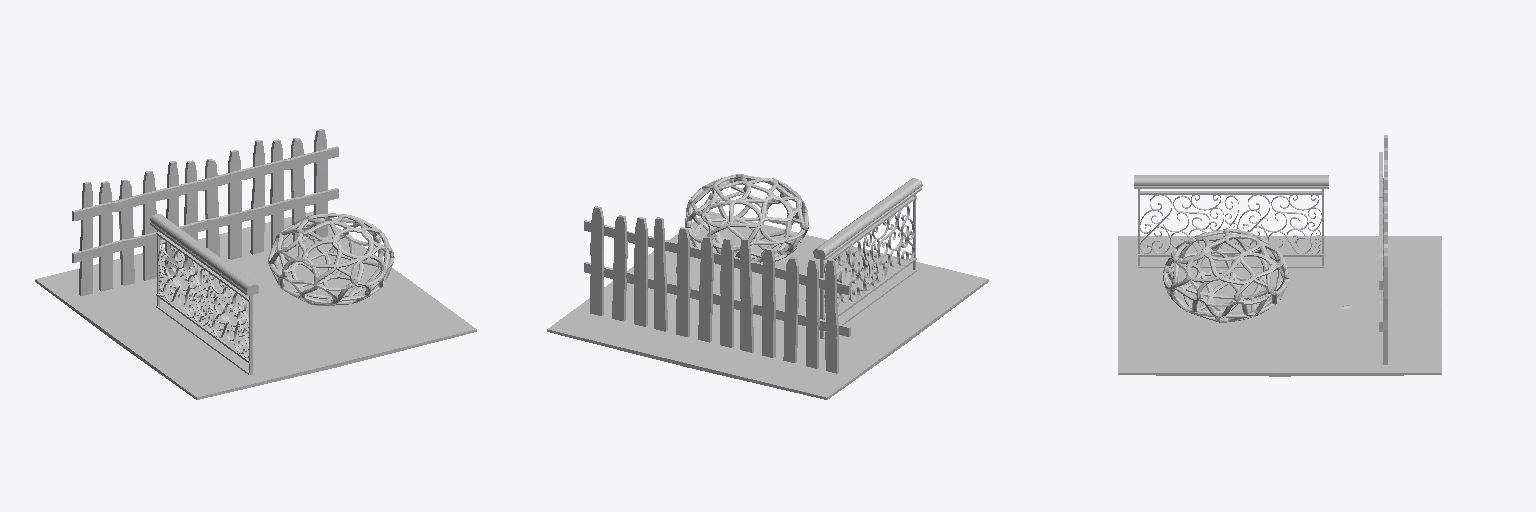
File: hifreq_scene.obj
The picture shows the model from 3 angles: view 1: azimuth 30°, elevation 25°; view 2: azimuth 150°, elevation 25°; view 3: azimuth 270°, elevation 25°; orthographic projection.
Parts seen in each view (by area): view 1: plane_simp, file.004, ball_3d, fence2; view 2: plane_simp, file.004, fence2, ball_3d; view 3: plane_simp, ball_3d, fence2, file.004.
Part boxes in pixels (bbox=[...]): plane_simp: bbox=[35, 211, 476, 399]; file.004: bbox=[72, 129, 338, 295]; ball_3d: bbox=[268, 213, 394, 305]; fence2: bbox=[150, 214, 258, 374]; plane_simp: bbox=[547, 211, 988, 399]; file.004: bbox=[584, 206, 850, 373]; fence2: bbox=[813, 178, 922, 338]; ball_3d: bbox=[685, 174, 808, 262]; plane_simp: bbox=[1118, 236, 1441, 376]; ball_3d: bbox=[1163, 228, 1288, 322]; fence2: bbox=[1134, 175, 1328, 267]; file.004: bbox=[1379, 135, 1387, 364].
Bounding box in the file's own units: 3 × 1.29 × 3.